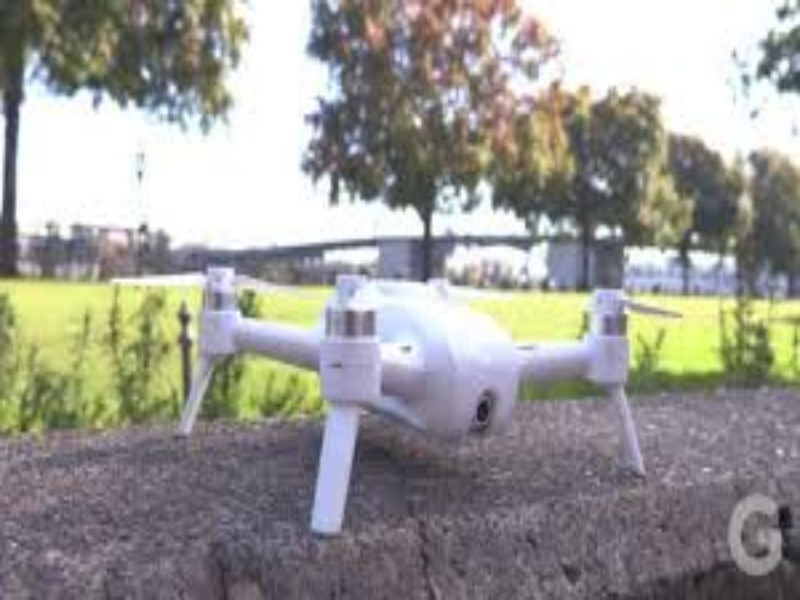drone: (172, 253, 684, 542)
